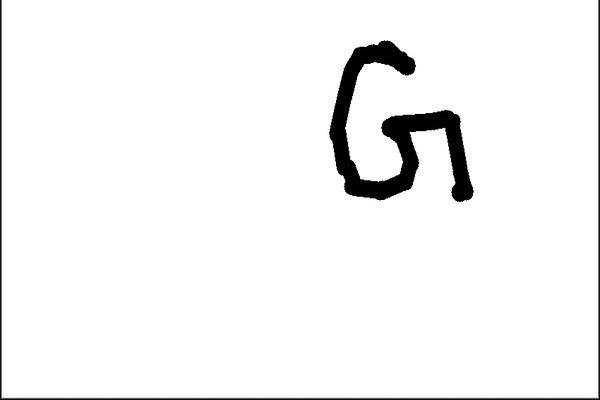G: (324, 36, 477, 207)
